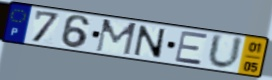6: (59, 14, 92, 50)
7: (32, 9, 62, 45)
E: (173, 30, 209, 67)
M: (94, 18, 139, 57)
N: (133, 24, 167, 61)
U: (205, 32, 244, 72)
